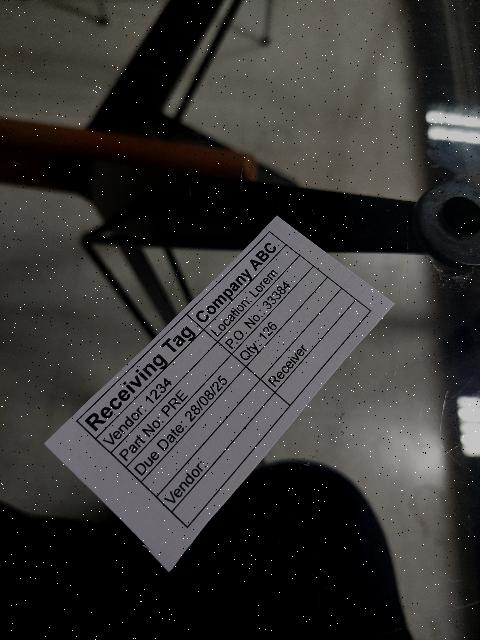PO no: (217, 254, 314, 356)
part no: (110, 341, 234, 469)
qty: (230, 266, 329, 367)
tags: (43, 216, 394, 575)
